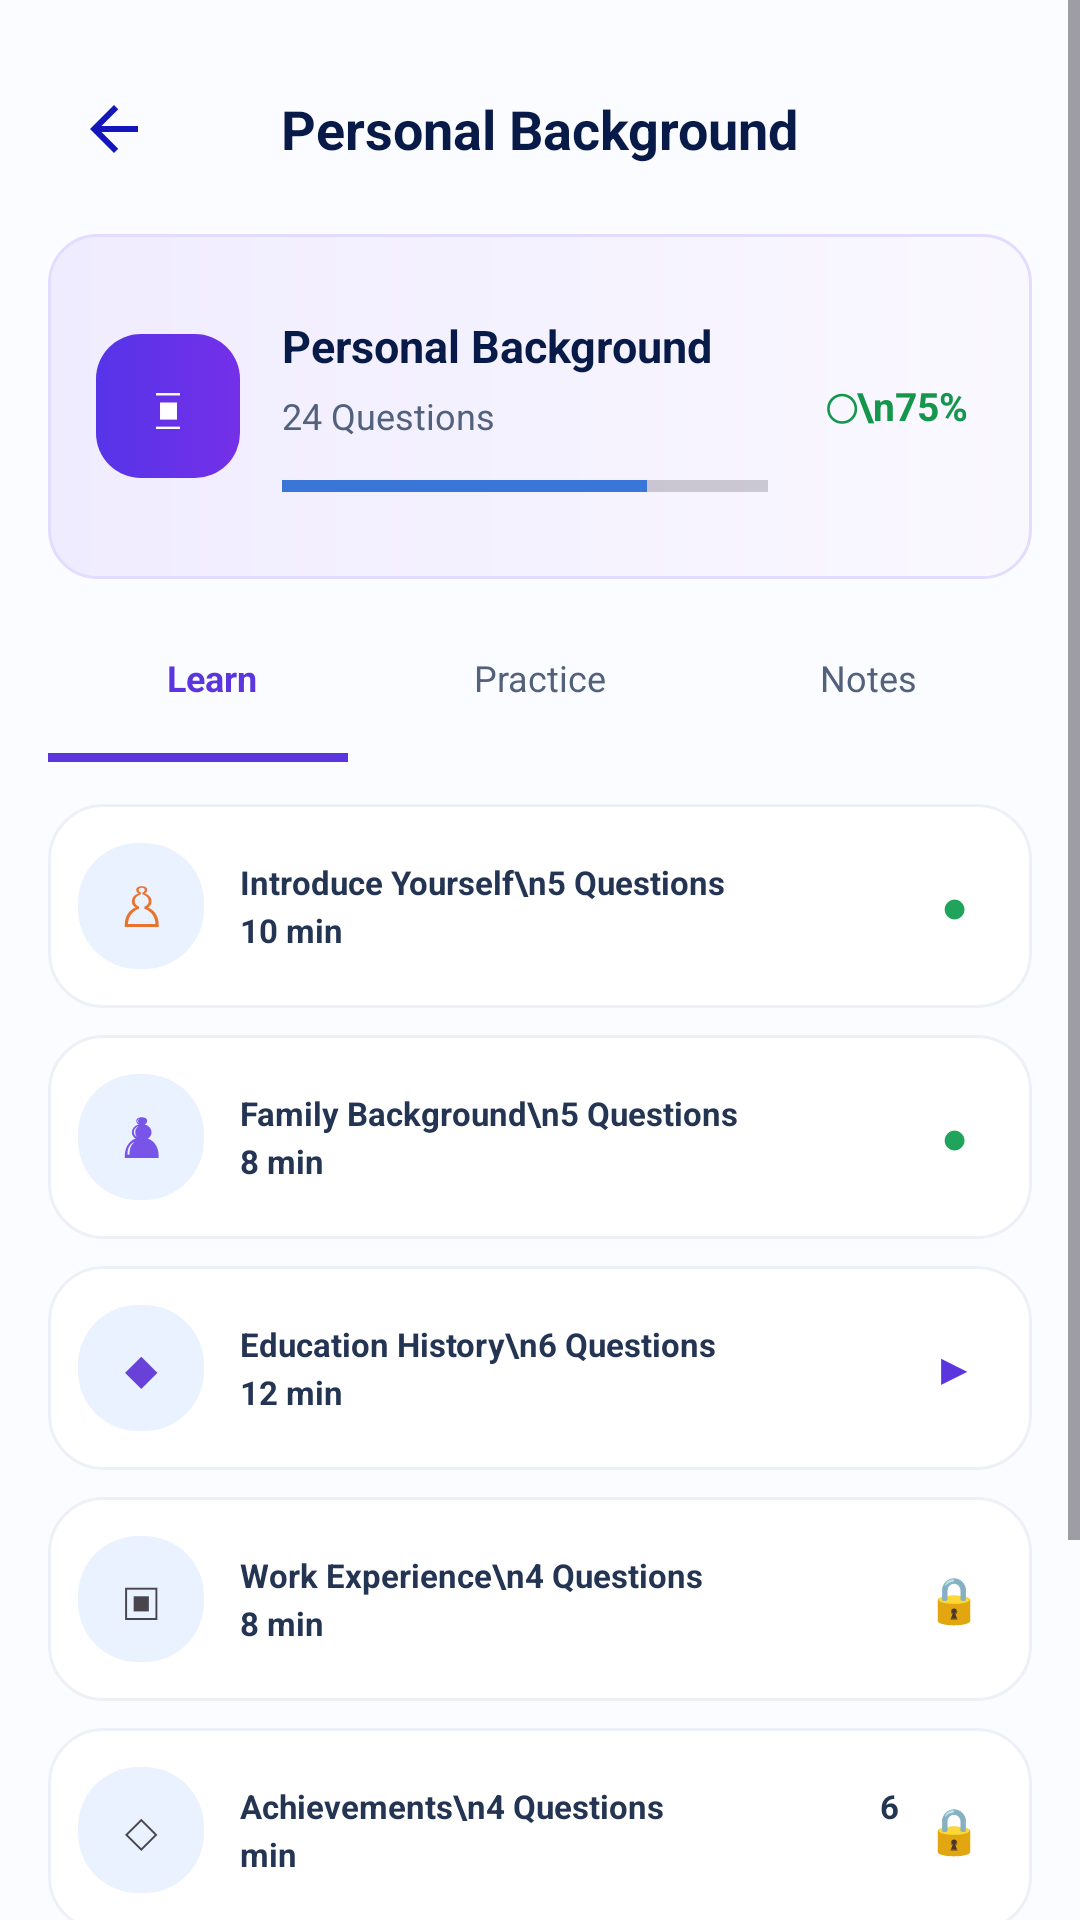

Icons on this 1080 × 1920 Android screen, each with its box as (x1, y1, x2, y2):
arrow back: (90, 105, 138, 153)
